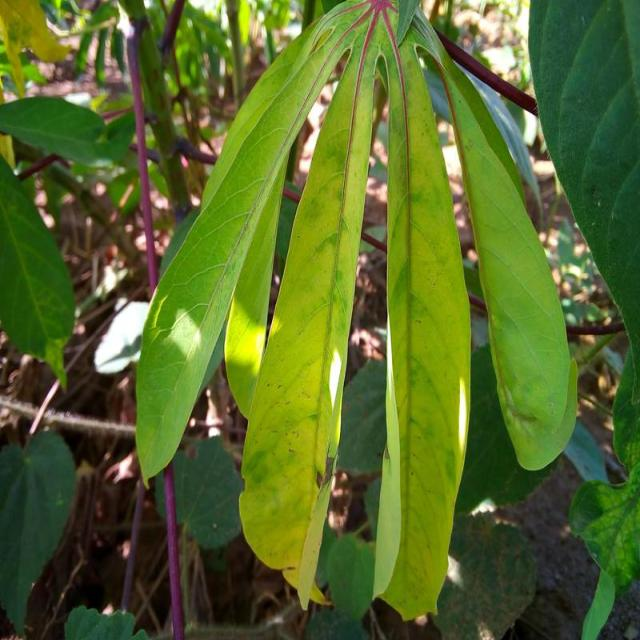cassava leaf: (134, 0, 576, 621), (371, 22, 472, 621)
